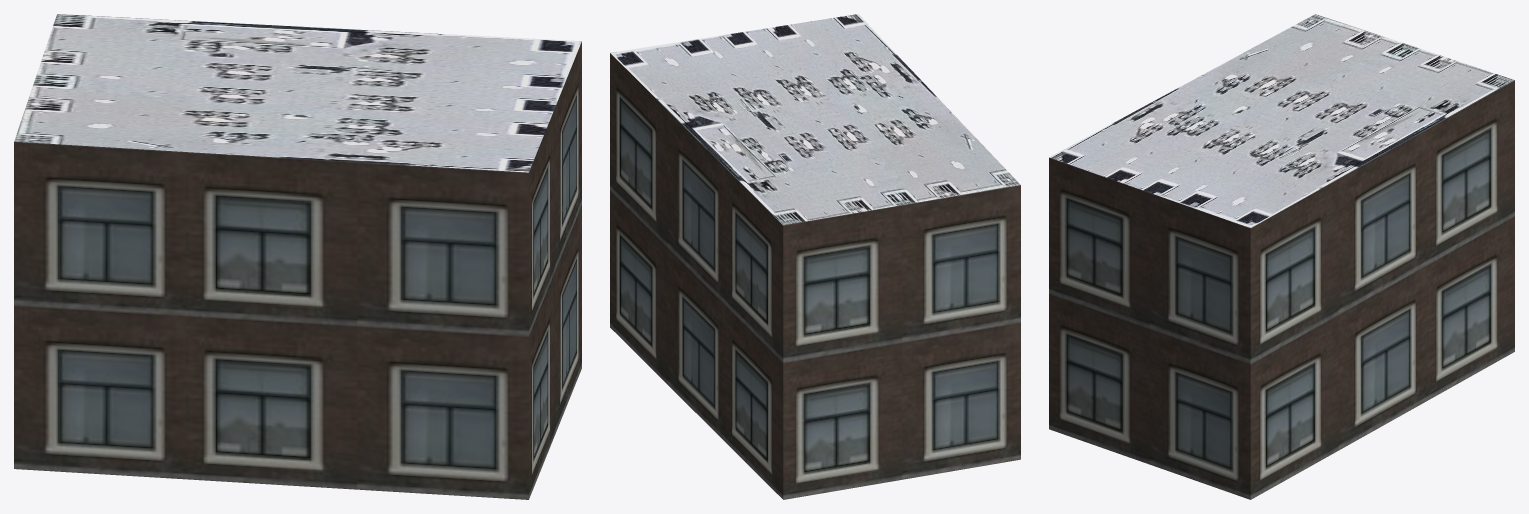
The model's file is ResTex__827.fbx.
The picture shows the model from 3 angles, left to right: view 1: azimuth 30°, elevation 25°; view 2: azimuth 150°, elevation 25°; view 3: azimuth 270°, elevation 25°; orthographic projection. The views are drawn at different scales.
Visible parts, largest first — view 1: CityEngineMaterial_16_m, CityEngineMaterial_15_m; view 2: CityEngineMaterial_16_m, CityEngineMaterial_15_m; view 3: CityEngineMaterial_16_m, CityEngineMaterial_15_m.
Part boxes in pixels (box(x1,y1,x2,y2)): CityEngineMaterial_16_m: box(14, 41, 581, 499); CityEngineMaterial_15_m: box(14, 14, 581, 172); CityEngineMaterial_16_m: box(610, 53, 1020, 499); CityEngineMaterial_15_m: box(610, 14, 1020, 225); CityEngineMaterial_16_m: box(1049, 80, 1514, 499); CityEngineMaterial_15_m: box(1049, 14, 1514, 227).
Bounding box in the file's own units: 10.14 × 6 × 9.32.
Materials: 2 (2 with a texture image).
